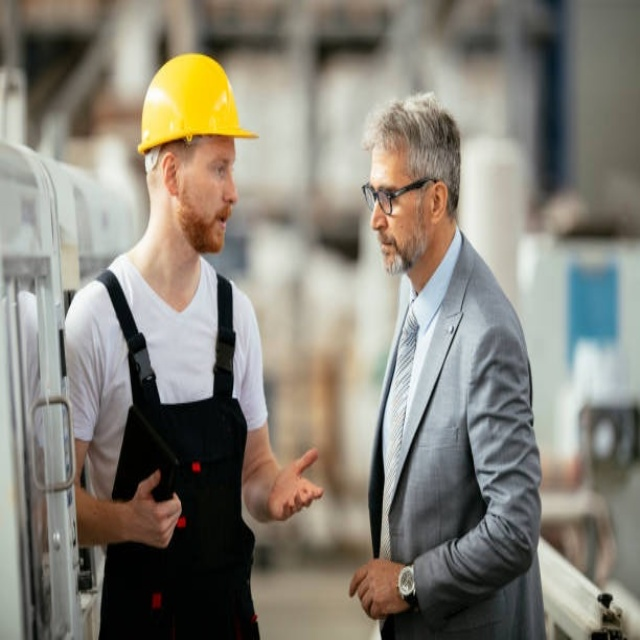Gafas: (363, 176, 440, 216)
Sin_gafas: (189, 151, 238, 179)
Sin_guantes: (122, 469, 184, 550), (267, 446, 325, 521), (348, 556, 407, 620)
Sin_mascara: (376, 229, 406, 273), (203, 204, 232, 246)
